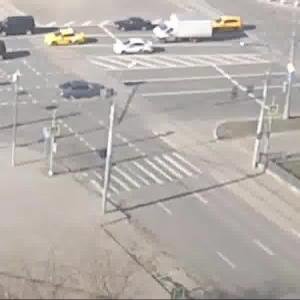car: (61, 77, 113, 101), (159, 18, 208, 43), (208, 11, 245, 36), (1, 15, 39, 39), (48, 31, 94, 49), (117, 14, 153, 34), (117, 40, 147, 56)
